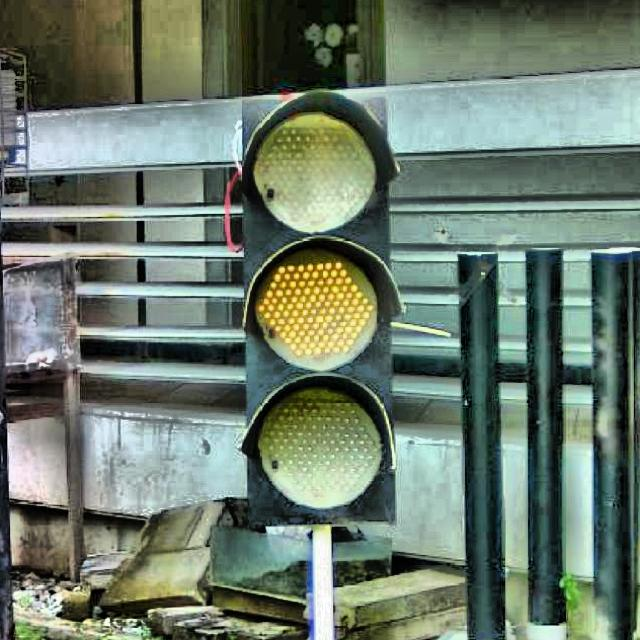yellow: (239, 96, 402, 529)
